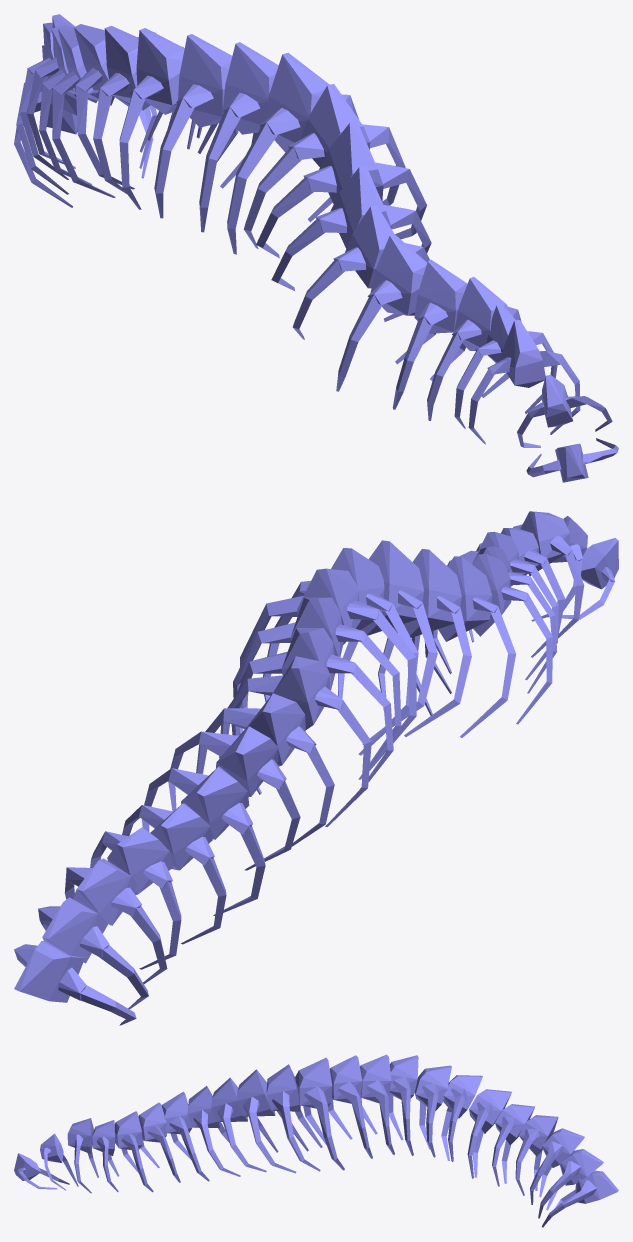
File: Giant_Snake_Bones_Collider_01.FBX
The picture shows the model from 3 angles, top to bottom: view 1: azimuth 30°, elevation 25°; view 2: azimuth 150°, elevation 25°; view 3: azimuth 270°, elevation 25°; orthographic projection. The views are drawn at different scales.
Parts seen in each view (by area): view 1: Part14A, Part12A, Part13A, Part15A, Part7A, Part10A, Part6A, Part11A, Part9A, Part3A, Part5A, Part8A (+17 smaller); view 2: Part10A, Part9A, Part23A, Part18A, Part17A, Part21A, Part15A, Part22A, Part20A, Part19A, Part16A, Part8A (+20 smaller); view 3: Part12A, Part10A, Part13A, Part11A, Part14A, Part16A, Part18A, Part9A, Part17A, Part15A, Part20A, Part22A (+20 smaller).
Part boxes in pixels (x1=…): Part14A: x1=178, y1=34, x2=232, y2=127; Part12A: x1=264, y1=52, x2=329, y2=152; Part13A: x1=222, y1=42, x2=278, y2=134; Part15A: x1=136, y1=28, x2=184, y2=114; Part7A: x1=370, y1=234, x2=426, y2=315; Part10A: x1=319, y1=122, x2=383, y2=203; Part6A: x1=414, y1=259, x2=467, y2=333; Part11A: x1=300, y1=84, x2=370, y2=166; Part9A: x1=330, y1=166, x2=391, y2=248; Part3A: x1=501, y1=320, x2=545, y2=387; Part5A: x1=454, y1=277, x2=513, y2=350; Part8A: x1=345, y1=205, x2=393, y2=288; Part10A: x1=362, y1=540, x2=424, y2=635; Part9A: x1=403, y1=548, x2=461, y2=637; Part23A: x1=14, y1=941, x2=84, y2=1002; Part18A: x1=181, y1=766, x2=249, y2=839; Part17A: x1=216, y1=726, x2=278, y2=796; Part21A: x1=73, y1=858, x2=136, y2=925; Part15A: x1=273, y1=656, x2=330, y2=729; Part22A: x1=42, y1=897, x2=108, y2=963; Part20A: x1=107, y1=827, x2=172, y2=894; Part19A: x1=150, y1=803, x2=212, y2=870; Part16A: x1=248, y1=693, x2=305, y2=766; Part8A: x1=438, y1=556, x2=492, y2=641; Part12A: x1=295, y1=1057, x2=332, y2=1108; Part10A: x1=236, y1=1069, x2=275, y2=1116; Part13A: x1=330, y1=1055, x2=362, y2=1103; Part11A: x1=266, y1=1064, x2=300, y2=1111; Part14A: x1=360, y1=1054, x2=391, y2=1103; Part16A: x1=414, y1=1065, x2=451, y2=1110; Part18A: x1=469, y1=1089, x2=511, y2=1133; Part9A: x1=211, y1=1077, x2=247, y2=1122; Part17A: x1=443, y1=1075, x2=482, y2=1118; Part15A: x1=389, y1=1055, x2=418, y2=1099; Part20A: x1=519, y1=1115, x2=558, y2=1156; Part22A: x1=560, y1=1149, x2=603, y2=1185.
Size of the model in its own units: 299 by 454 by 1524.
